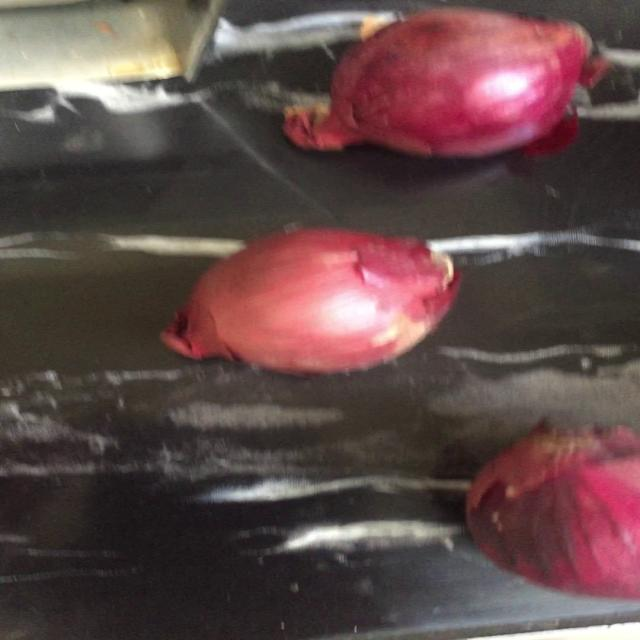Onion: (160, 228, 460, 375), (311, 7, 591, 157), (467, 423, 640, 600)
